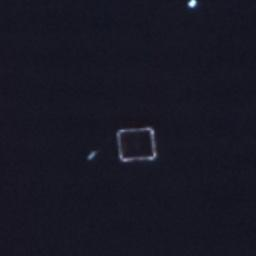square_solid: (114, 123, 161, 165)
